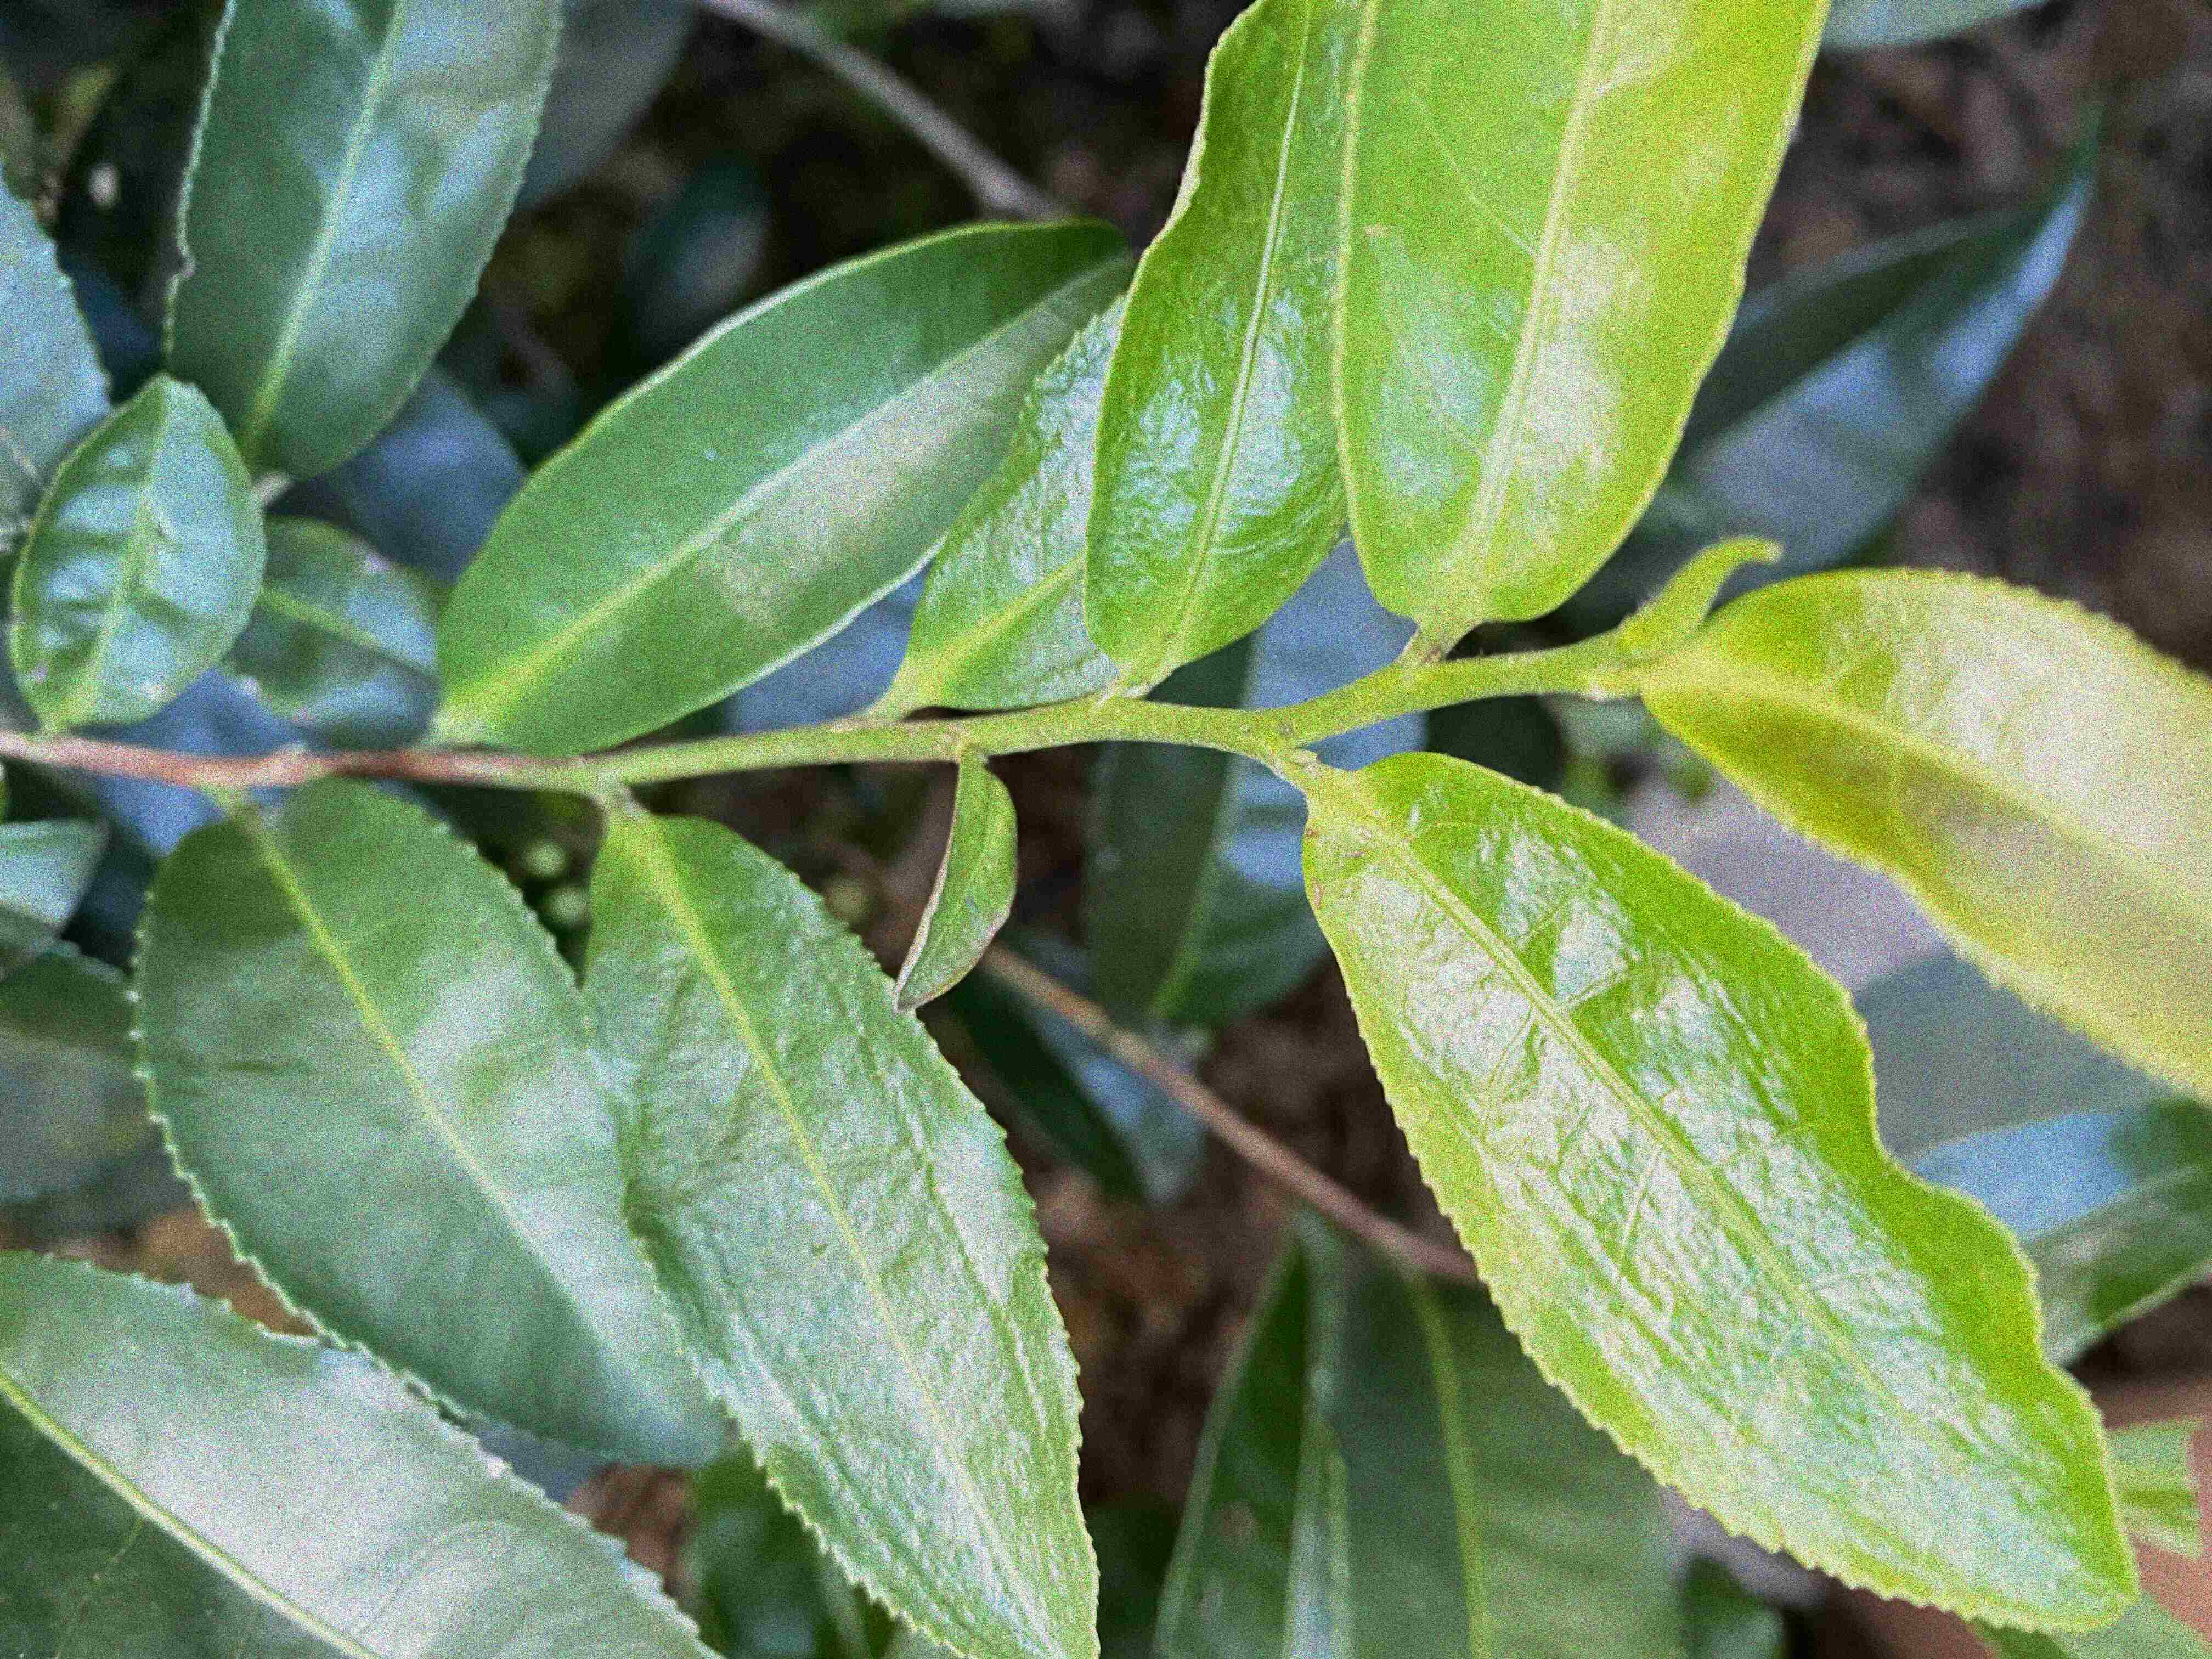healthy: (1296, 739, 2144, 1635), (127, 770, 730, 1469), (1332, 3, 1834, 629)
tanju_low: (1641, 559, 2210, 1108), (890, 751, 1021, 1014)
